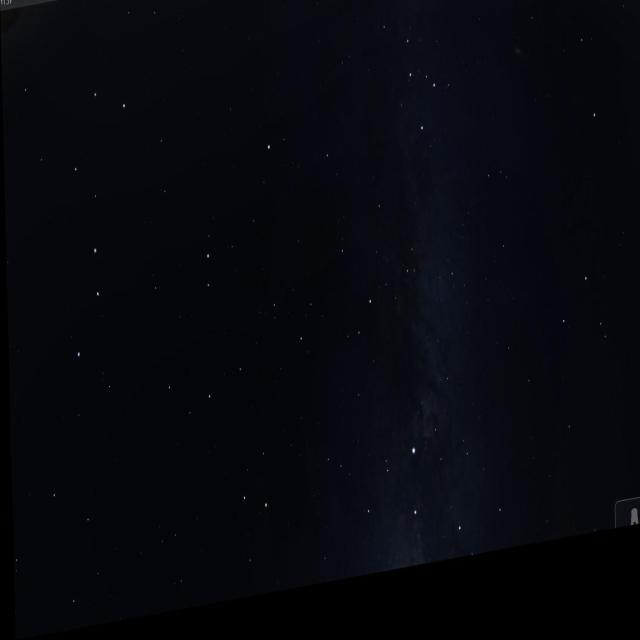cassiopeia: (376, 15, 449, 171)
cygnus: (344, 420, 468, 590)
ursa_major: (51, 74, 137, 362)
